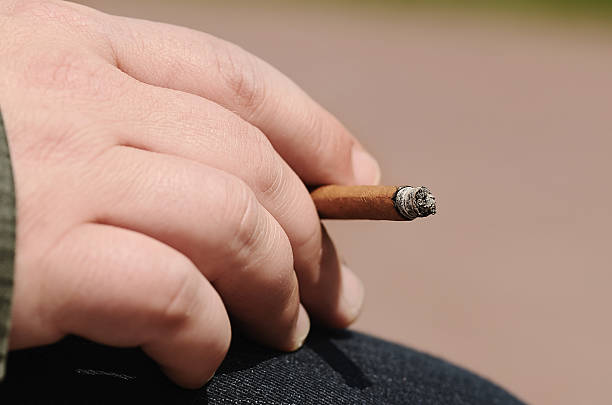cigarette: (308, 184, 439, 222)
